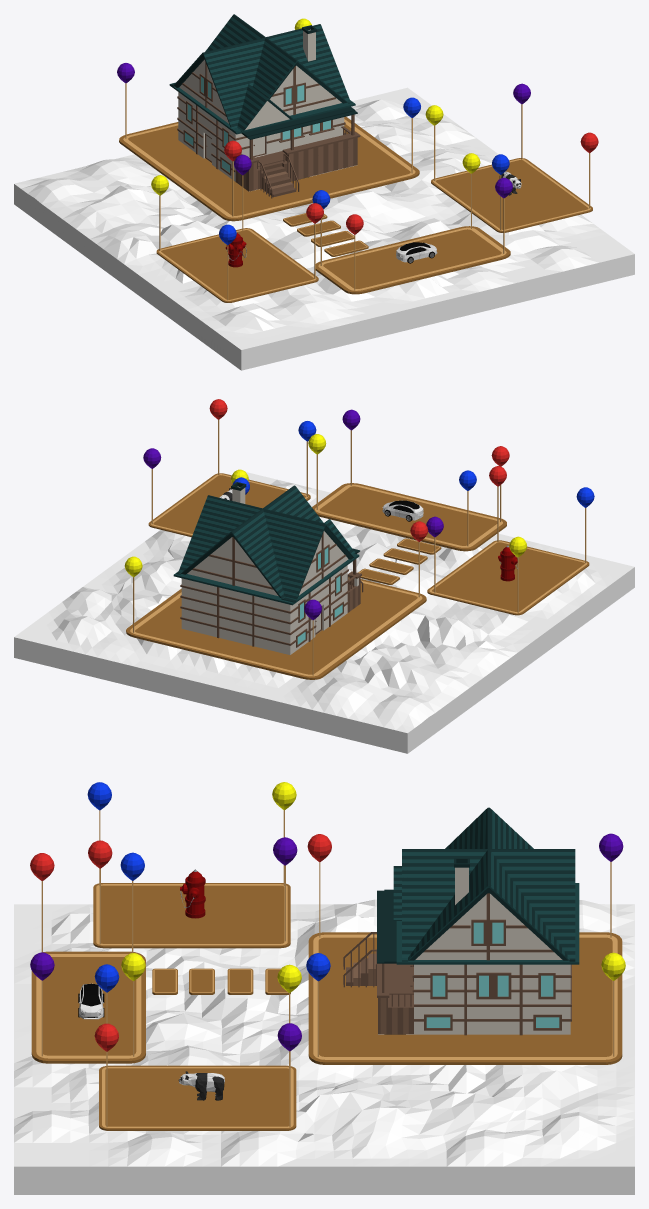
3 renders of one model, top to bottom at view 1: azimuth 30°, elevation 25°; view 2: azimuth 150°, elevation 25°; view 3: azimuth 270°, elevation 25°, orthographic. The views are drawn at different scales.
Parts seen in each view (by area): view 1: Cube.013, Cube.793, VEHICLES_TESLA; view 2: Cube.013, Cube.793, VEHICLES_TESLA, OBJRANDOM_FIRE_HYDRANT; view 3: Cube.013, Cube.793, OBJRANDOM_FIRE_HYDRANT, ANIMAL_PANDA, VEHICLES_TESLA.
Boxes of the visible parts, box(x1,y1,x2,y2) form: Cube.013: box(14, 18, 634, 370); Cube.793: box(169, 14, 360, 198); VEHICLES_TESLA: box(396, 242, 437, 263); Cube.013: box(14, 399, 634, 753); Cube.793: box(173, 482, 363, 654); VEHICLES_TESLA: box(382, 500, 423, 521); OBJRANDOM_FIRE_HYDRANT: box(498, 545, 517, 581); Cube.013: box(14, 782, 634, 1194); Cube.793: box(343, 807, 579, 1035); OBJRANDOM_FIRE_HYDRANT: box(180, 869, 205, 918); ANIMAL_PANDA: box(178, 1071, 224, 1100); VEHICLES_TESLA: box(78, 983, 104, 1019).
Bounding box in the file's own units: 4000 × 1789 × 4000.
24 materials, 2 textured.
